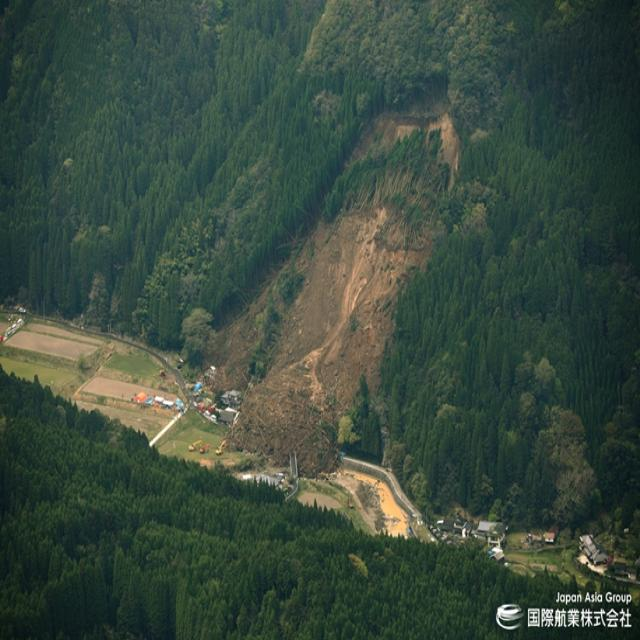Debris-flow: (228, 204, 431, 475), (356, 112, 460, 181), (216, 289, 271, 388)
